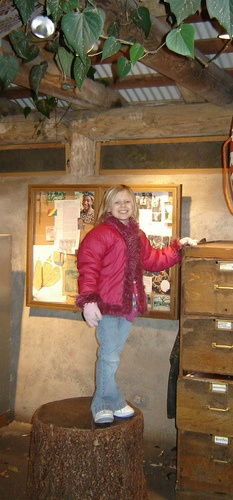head: (106, 186, 137, 220)
person: (76, 183, 183, 420)
